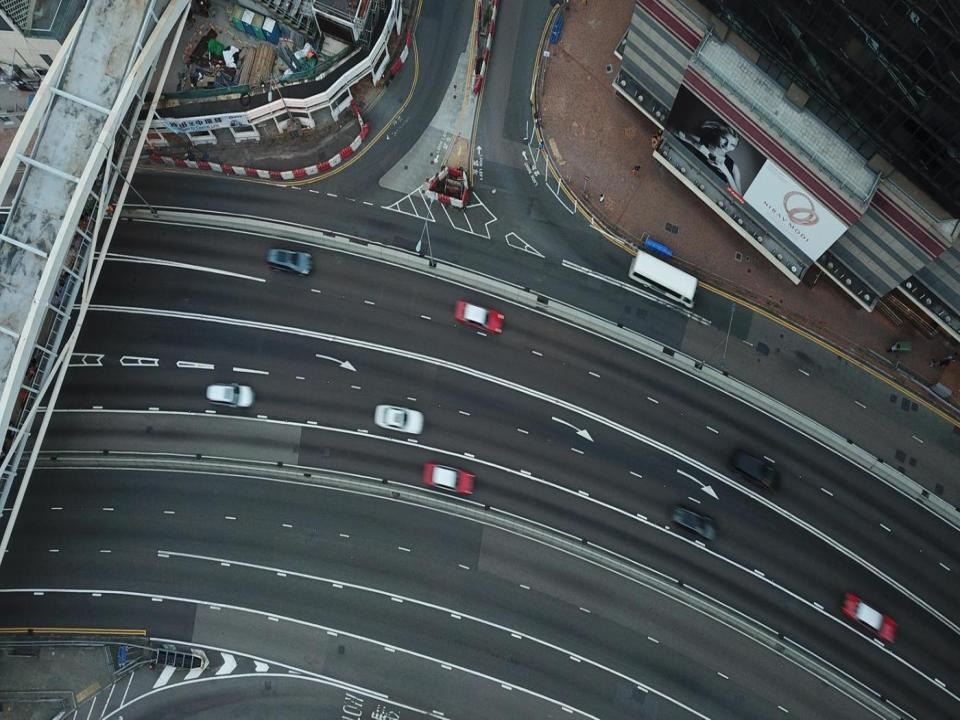bus: (630, 245, 698, 310)
car: (841, 590, 896, 644), (454, 297, 505, 335), (672, 505, 719, 541), (420, 461, 474, 492), (372, 405, 426, 435)
van: (727, 448, 782, 490), (266, 246, 312, 278), (206, 384, 255, 411)
